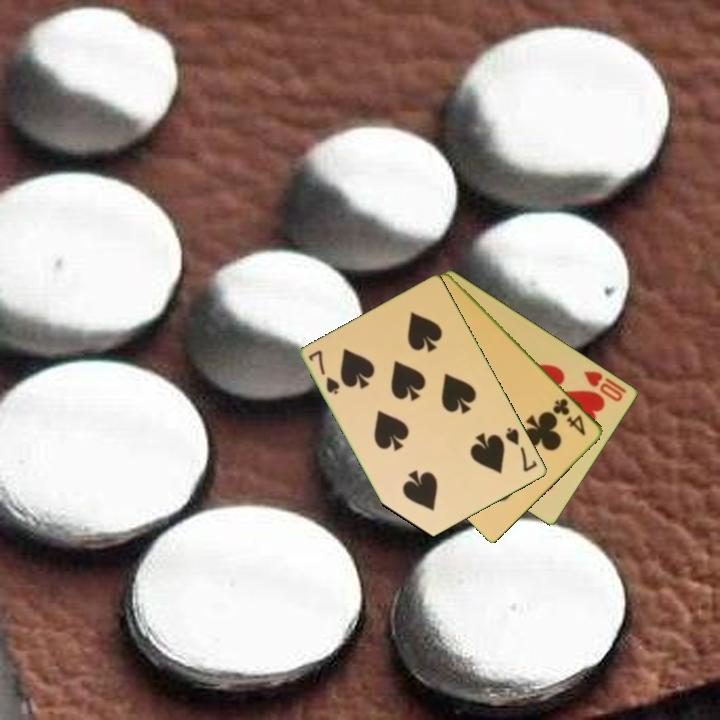10h: (580, 367, 626, 405)
4c: (550, 394, 589, 439)
7s: (502, 424, 541, 475), (305, 346, 343, 398)
